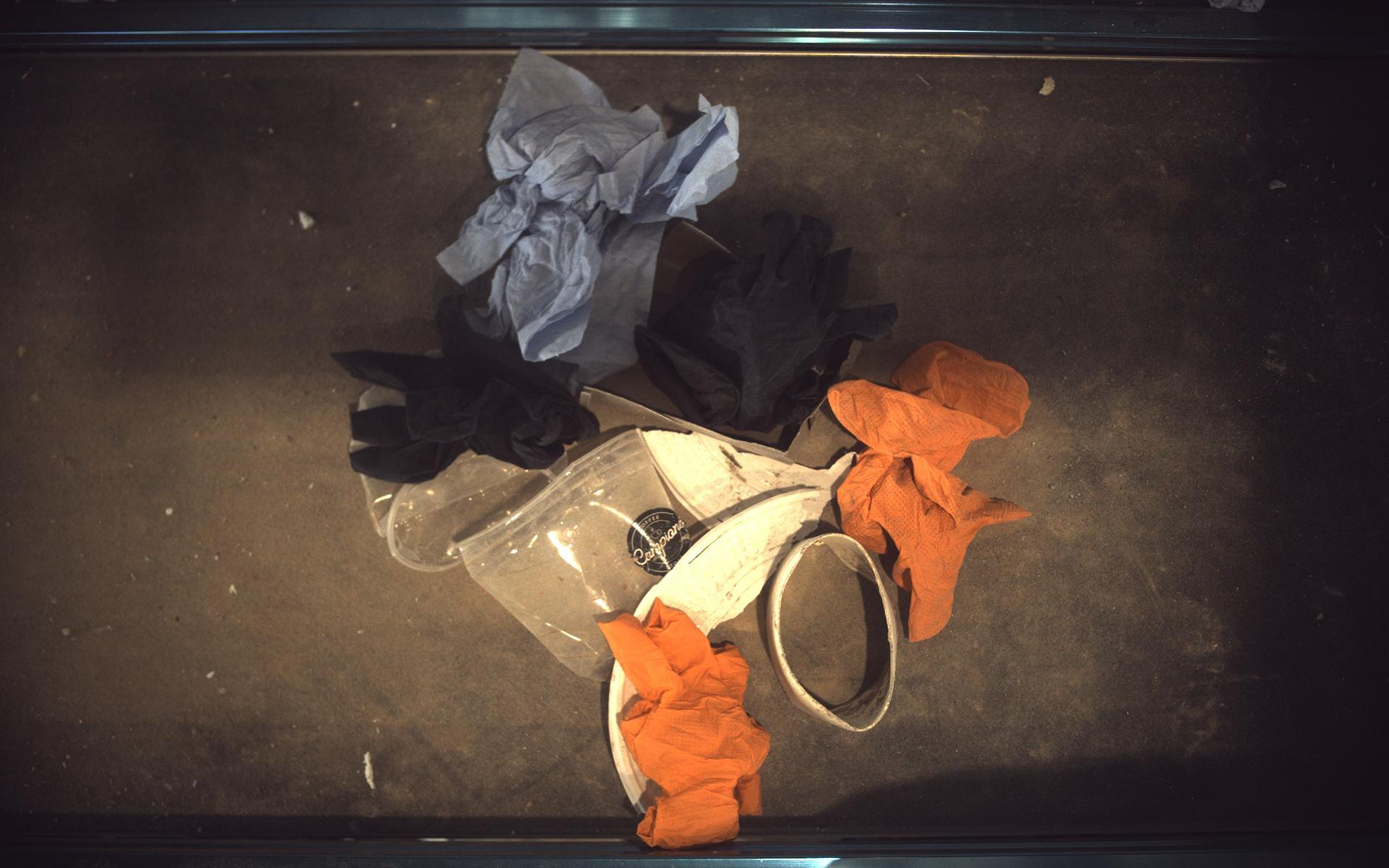general_w: (437, 48, 739, 380), (829, 341, 1032, 642), (460, 430, 694, 682), (636, 210, 899, 431), (334, 297, 599, 485), (600, 599, 772, 850), (578, 339, 828, 466), (634, 488, 830, 634), (634, 491, 827, 635), (768, 534, 901, 733), (381, 452, 553, 573), (643, 431, 851, 526), (649, 218, 739, 324), (609, 661, 655, 815), (359, 473, 404, 538), (356, 385, 404, 411), (349, 438, 365, 453)
